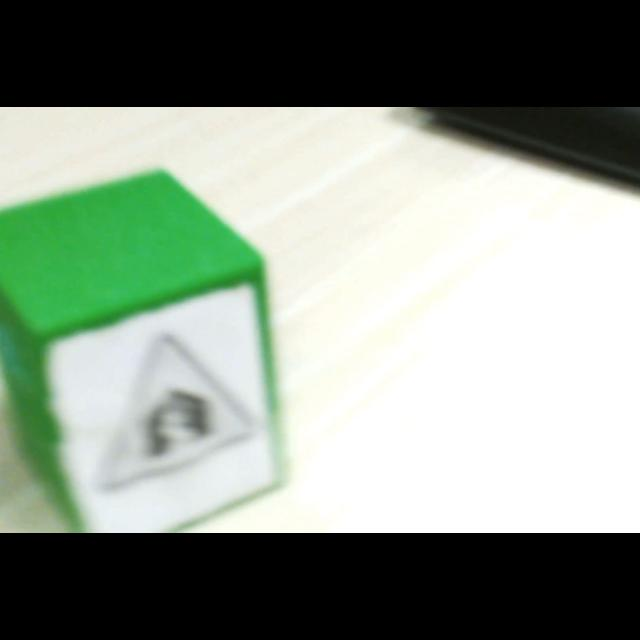Earthquake: (100, 328, 255, 488)
